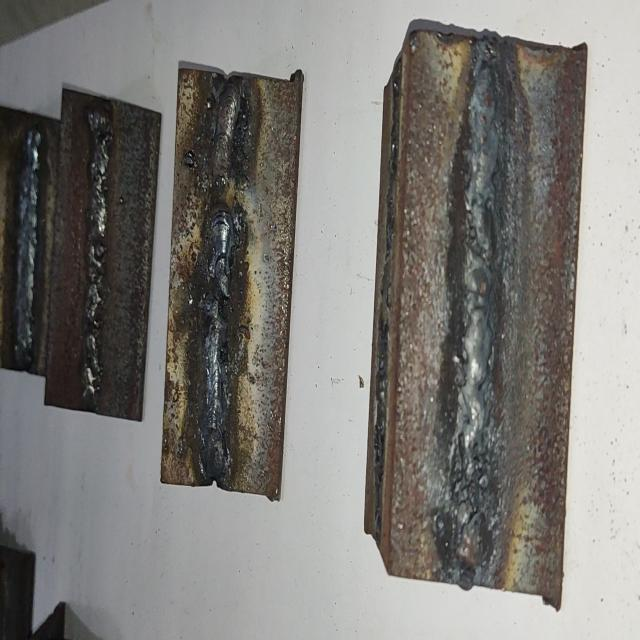Defect: (448, 405, 510, 574), (199, 153, 242, 241), (198, 268, 234, 372)
Welding Line: (458, 41, 500, 582), (199, 81, 242, 484), (81, 101, 109, 403), (16, 124, 42, 368)
Workpiece: (362, 21, 593, 616), (159, 64, 305, 507), (46, 83, 162, 427), (1, 100, 63, 394)
